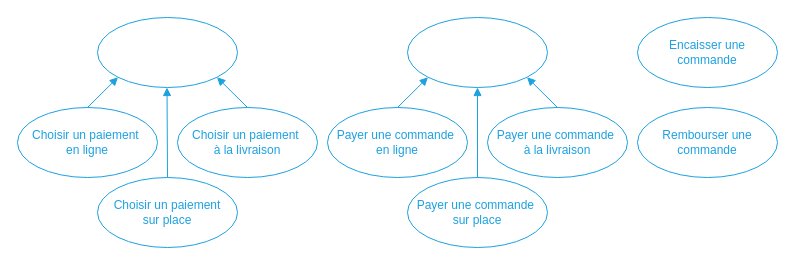
Image size: 795x265. Some labels were removed from this diagram. Here are the shapes that lost their labels. From the top down, the box of each, then its label:
(96, 16, 238, 88): Choisir le mode de paiement
(406, 16, 548, 88): Payer une commande
